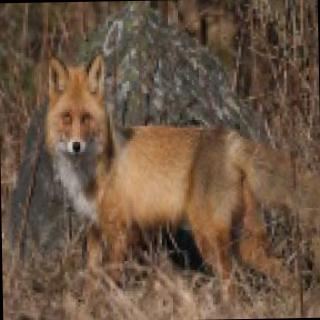fox: (42, 50, 296, 294)
